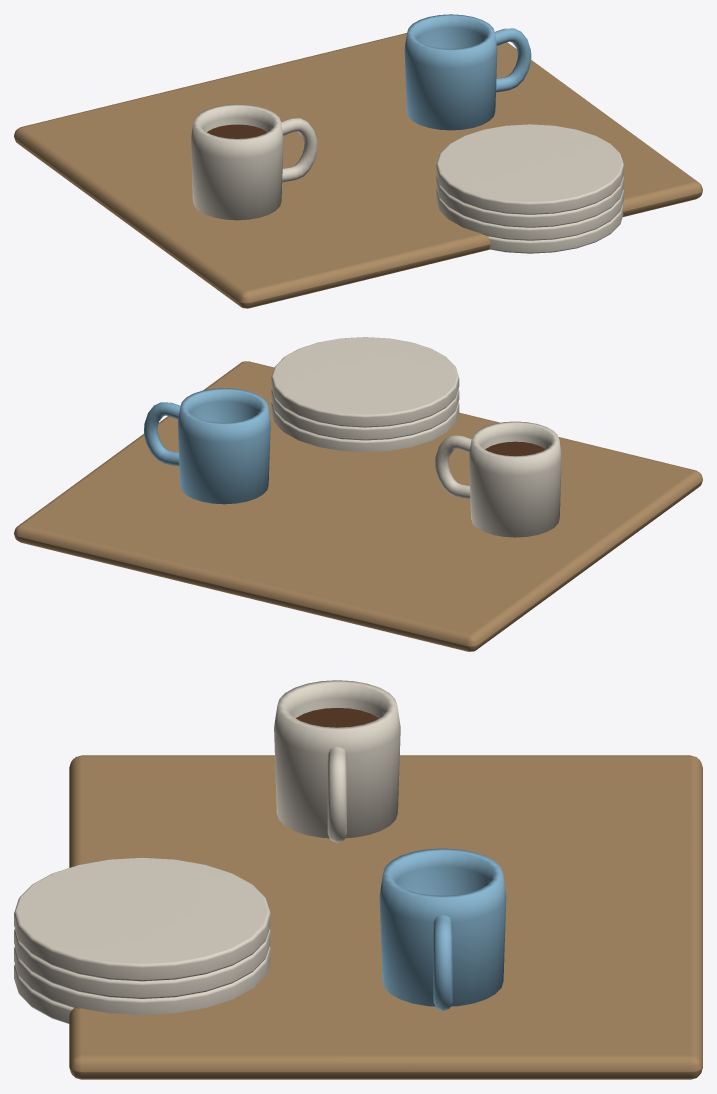
Rendered from ce_mugs.glb.
3 views of the same model, one above another, from view 1: azimuth 30°, elevation 25°; view 2: azimuth 150°, elevation 25°; view 3: azimuth 270°, elevation 25° (orthographic). The views are drawn at different scales.
Visible parts, largest first — view 1: prop; view 2: prop; view 3: prop.
Boxes of the visible parts, left/top/right/bottom form: prop: left=14, top=14, right=702, bottom=308; prop: left=14, top=337, right=702, bottom=651; prop: left=14, top=680, right=702, bottom=1079.
Bounding box in the file's own units: 0.45 × 0.089 × 0.424.
